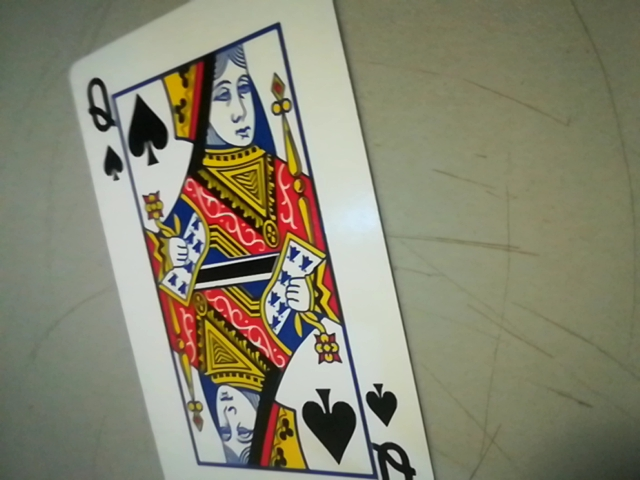ht q: (357, 379, 428, 480)
